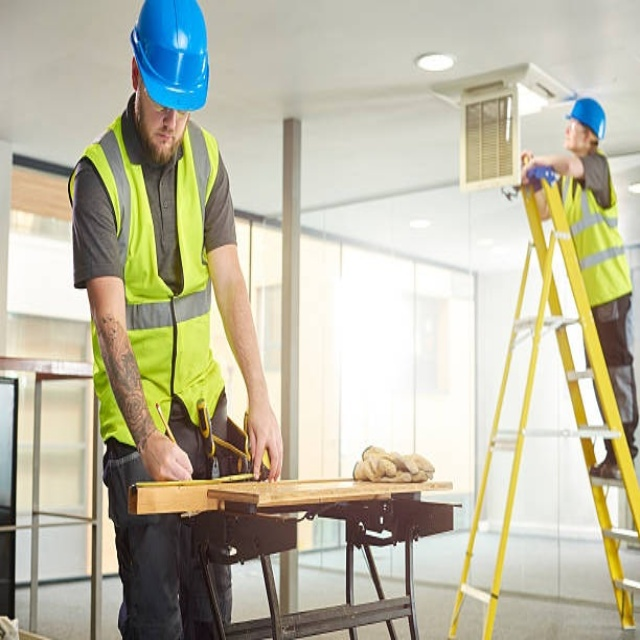Gafas: (137, 66, 167, 116), (566, 116, 589, 136)
Sin_guantes: (243, 397, 285, 485), (138, 422, 197, 480)
Sin_mascara: (150, 125, 181, 158), (564, 125, 578, 149)
